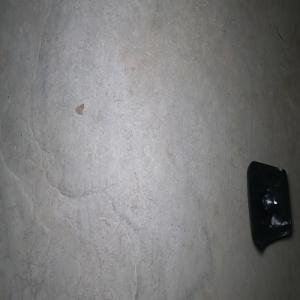LuggagePart: (246, 159, 292, 251)
